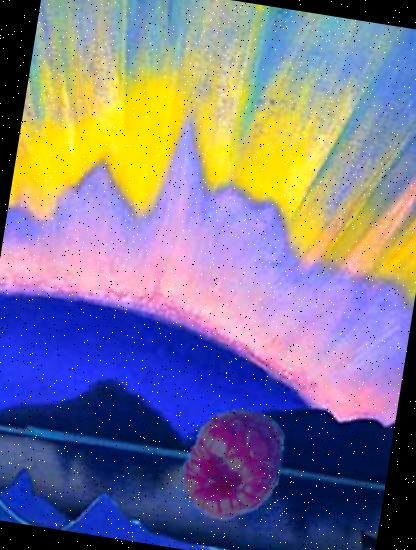Raspberry: (166, 399, 299, 532)
